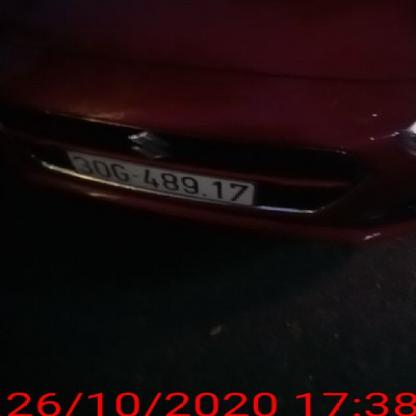biensoxe: (60, 148, 255, 208)
